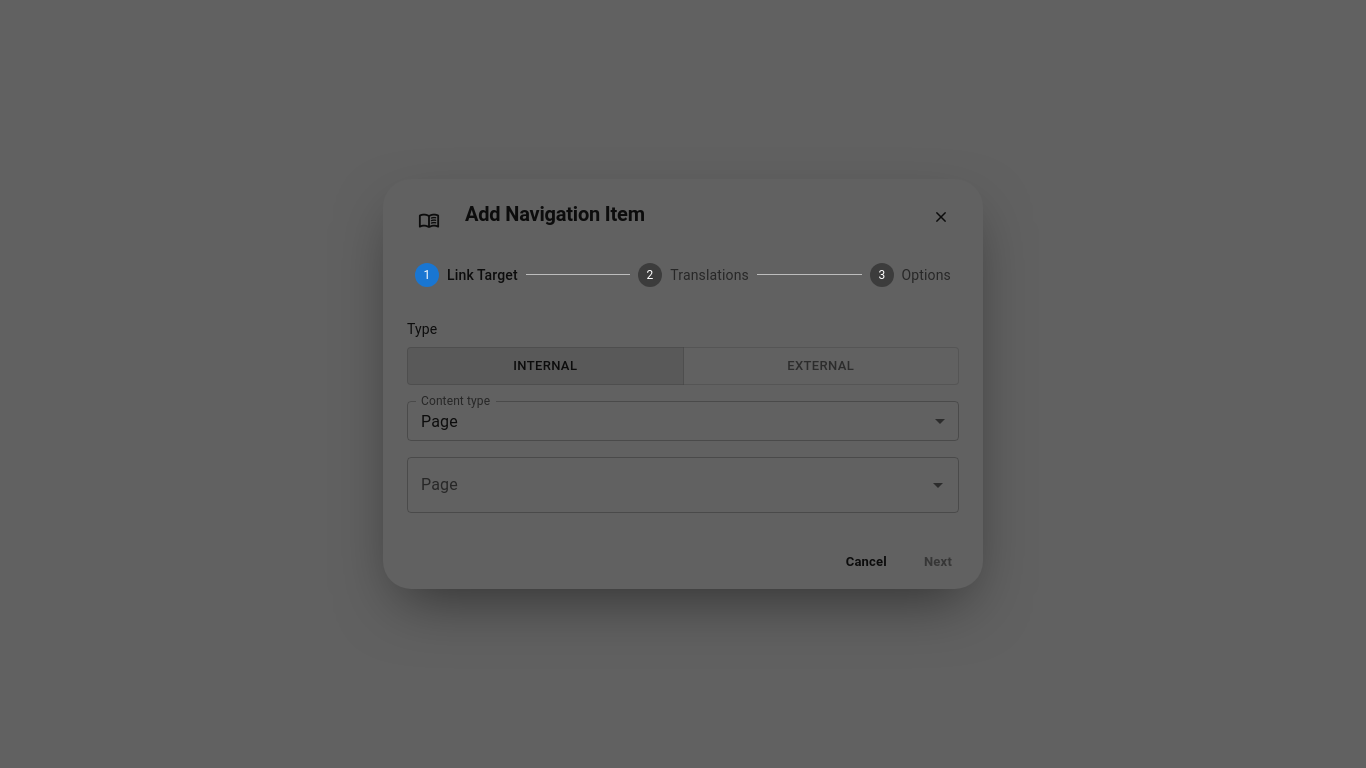
Scenario: NavigationItemWizard › shows parent picker, icon, and open_in_new_tab on step 3
// Advance through step 1: select a page
Click the 2nd dropdown labelled "Page" at (668, 485), box [416,466,920,504]
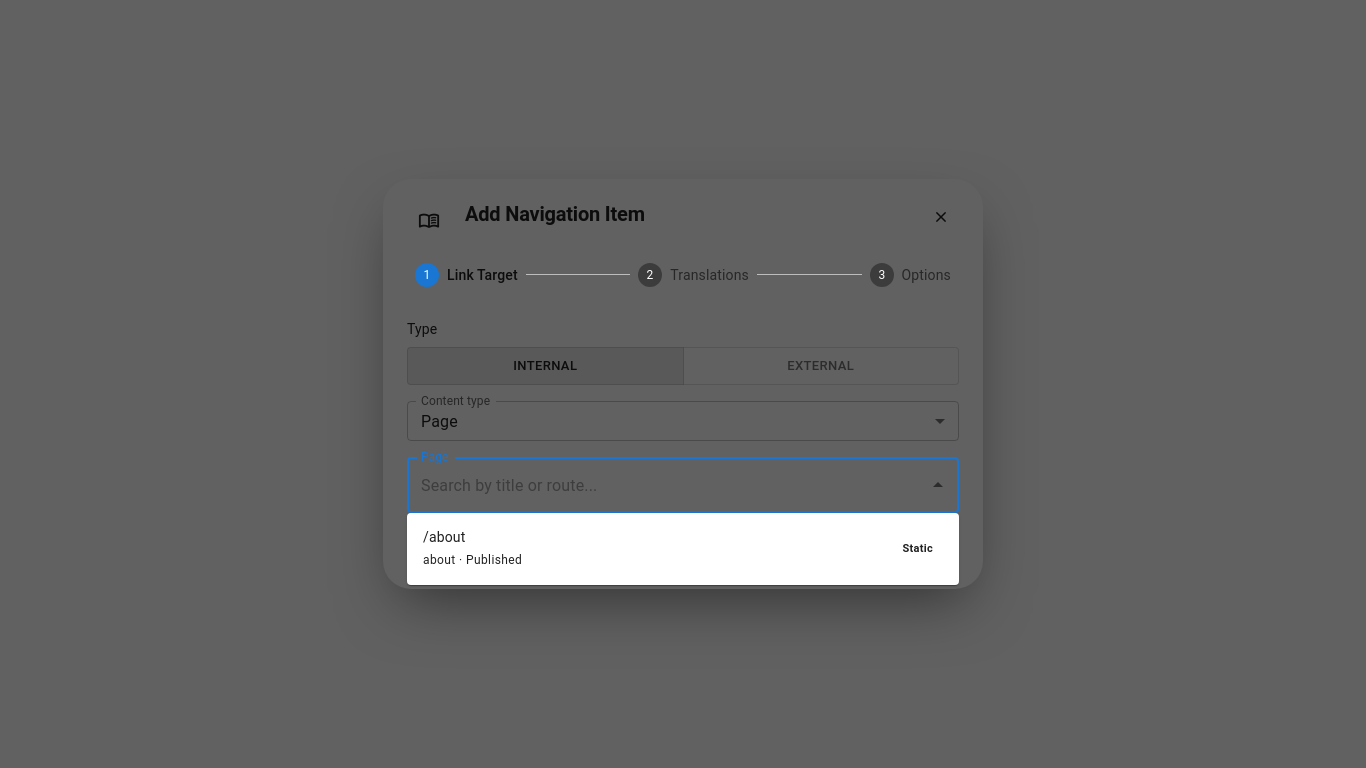
Expected: the text "/about" is shown
Click the text "/about" at (444, 537), box [423,529,465,545]
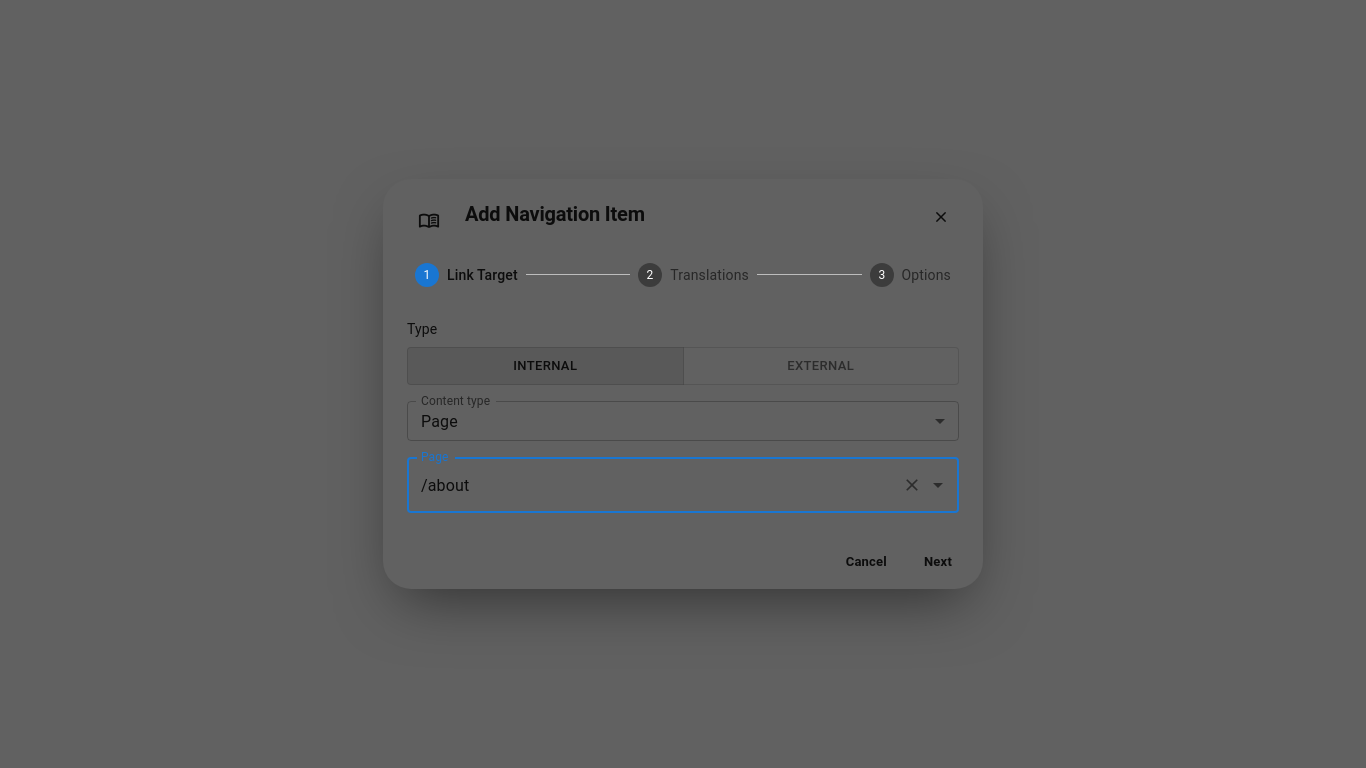
Expected: the button with test id "navigation-wizard.btn.next" is enabled
Click the button with test id "navigation-wizard.btn.next" at (938, 561), box [909,545,967,577]
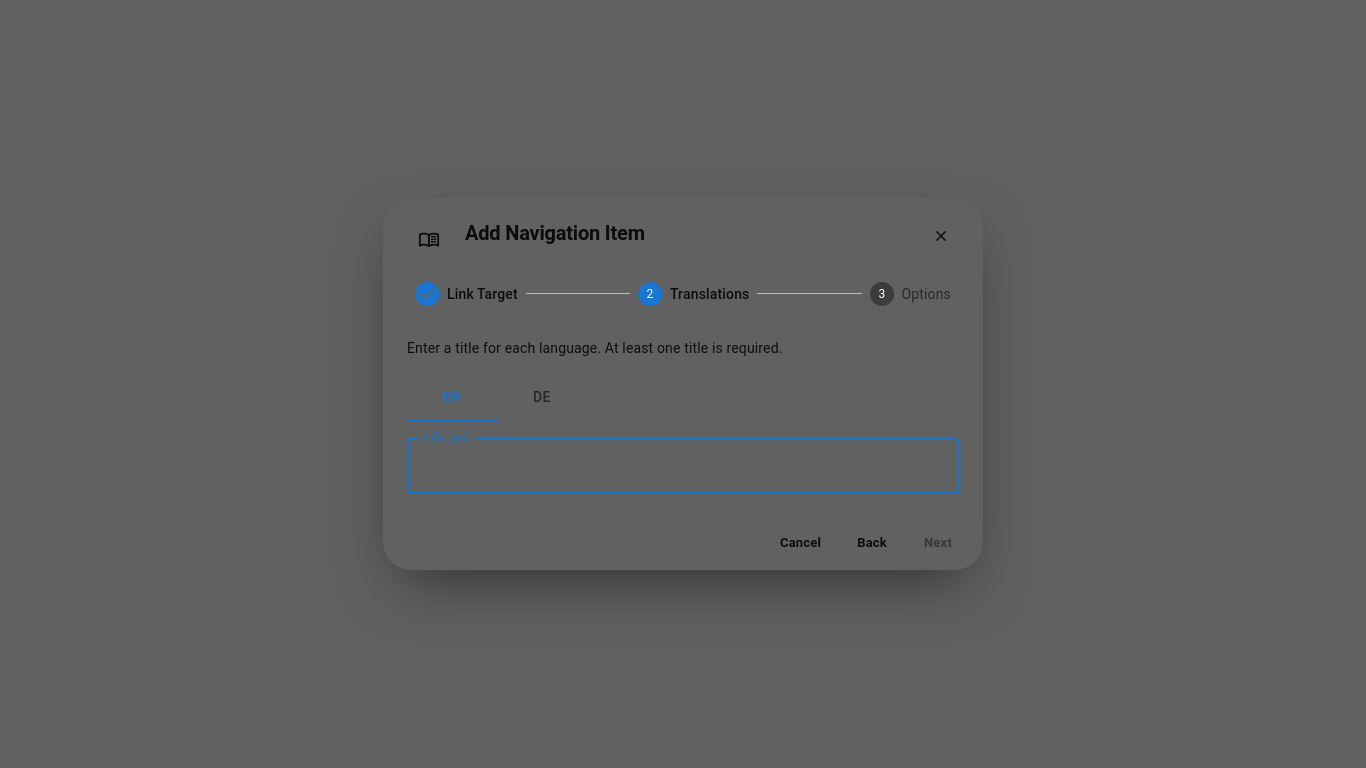
Expected: the element with test id "navigation-wizard.title-input" is shown
// enter a title so Next is enabled
Type "About Us" into the field labelled "Title (en)" at (683, 466), box [407,438,959,494]
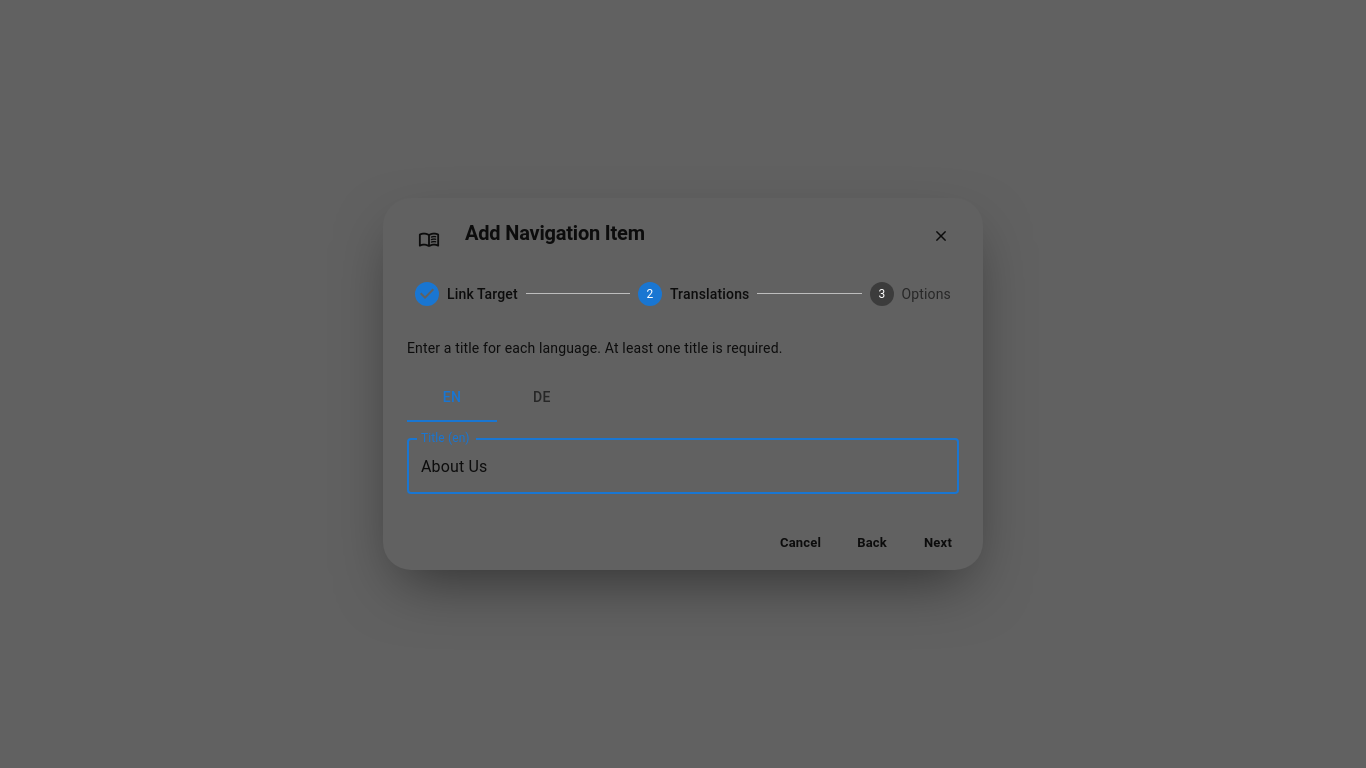
Expected: the button with test id "navigation-wizard.btn.next" is enabled
// Step 2 → 3
Click the button with test id "navigation-wizard.btn.next" at (938, 542), box [909,526,967,558]
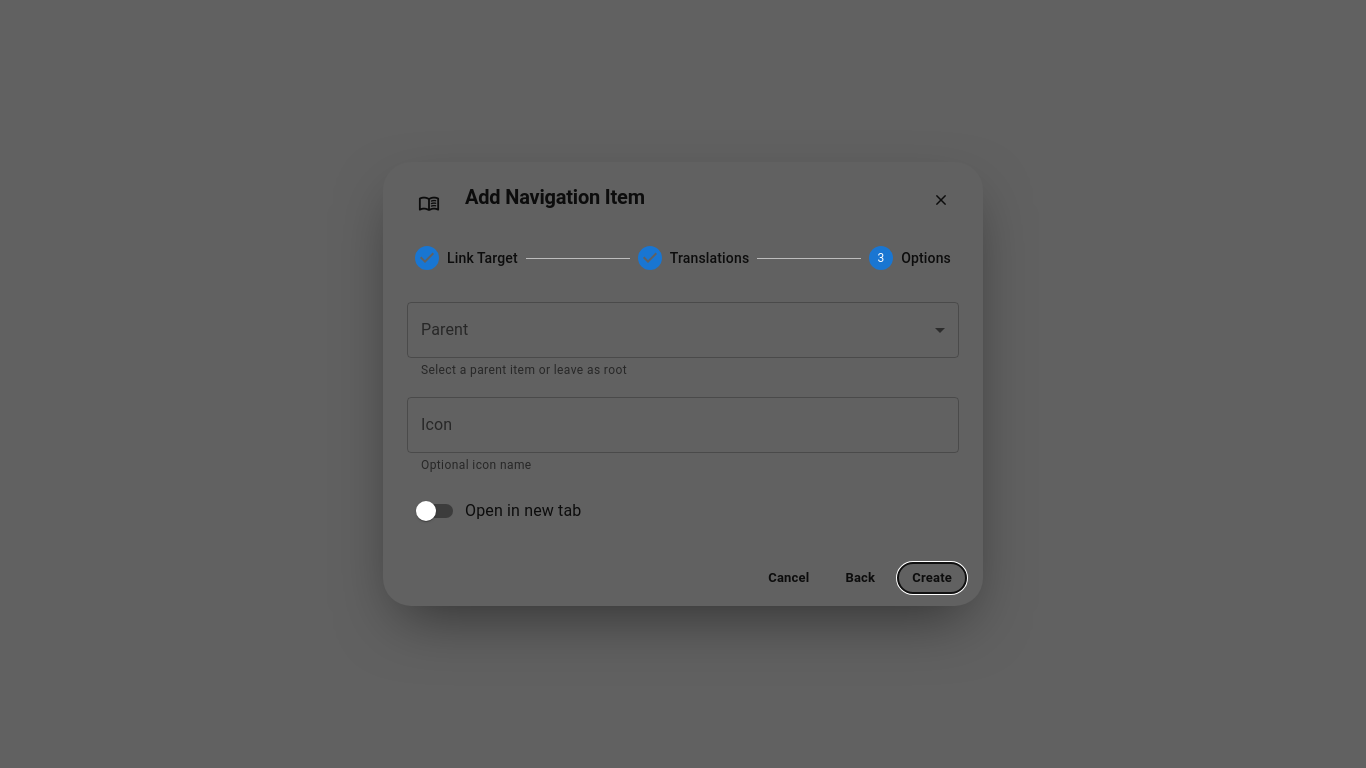
Expected: the field labelled "Icon" is shown, [407,397,959,453]
Expected: the switch labelled "Open in new tab" is shown, [416,501,582,521]
